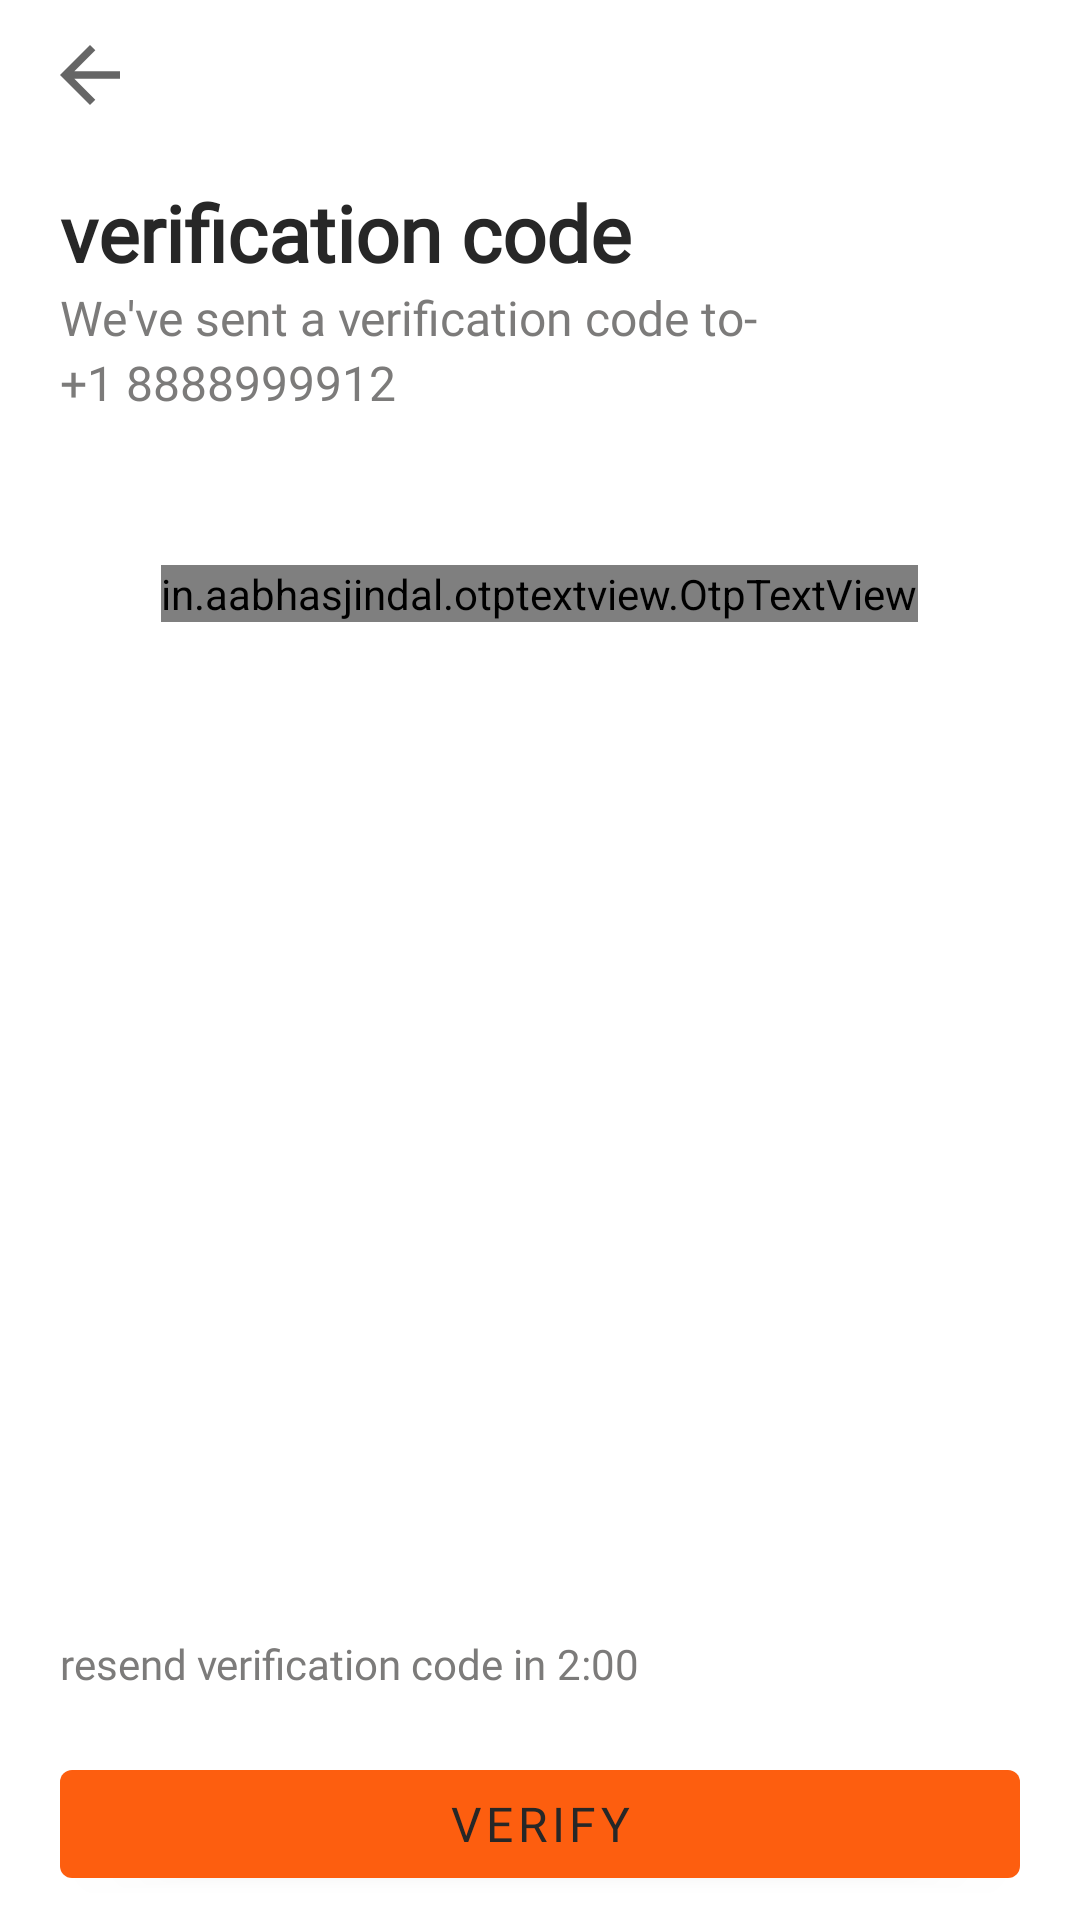

Where to tap for icons on this 1080 × 1920 app screen, as point (x, y):
back: point (90, 75)
